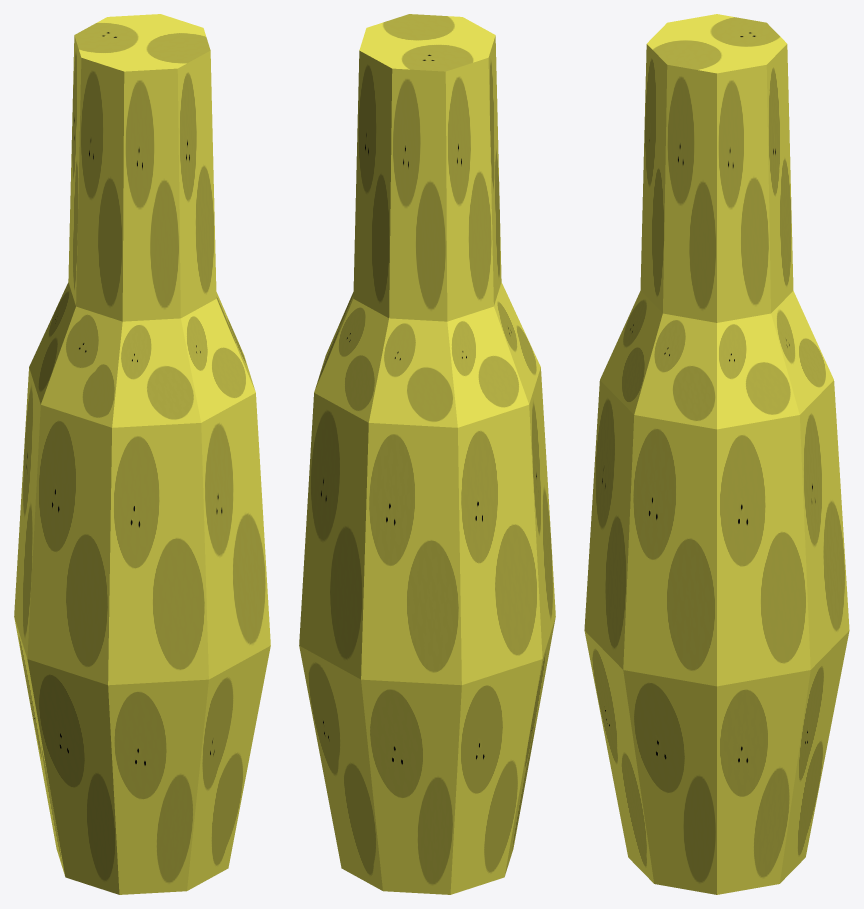
Rendered from pin_collider.obj.
3 views of the same model, side by side, from view 1: azimuth 30°, elevation 25°; view 2: azimuth 150°, elevation 25°; view 3: azimuth 270°, elevation 25° (orthographic).
Parts seen in each view (by area): view 1: Cylinder.001_Cylinder.004; view 2: Cylinder.001_Cylinder.004; view 3: Cylinder.001_Cylinder.004.
Part boxes in pixels (box(x1,y1,x2,y2)): Cylinder.001_Cylinder.004: box(14, 14, 270, 894); Cylinder.001_Cylinder.004: box(299, 14, 555, 894); Cylinder.001_Cylinder.004: box(584, 14, 849, 894).
Bounding box in the file's own units: 0.2924 × 0.9902 × 0.2924.
